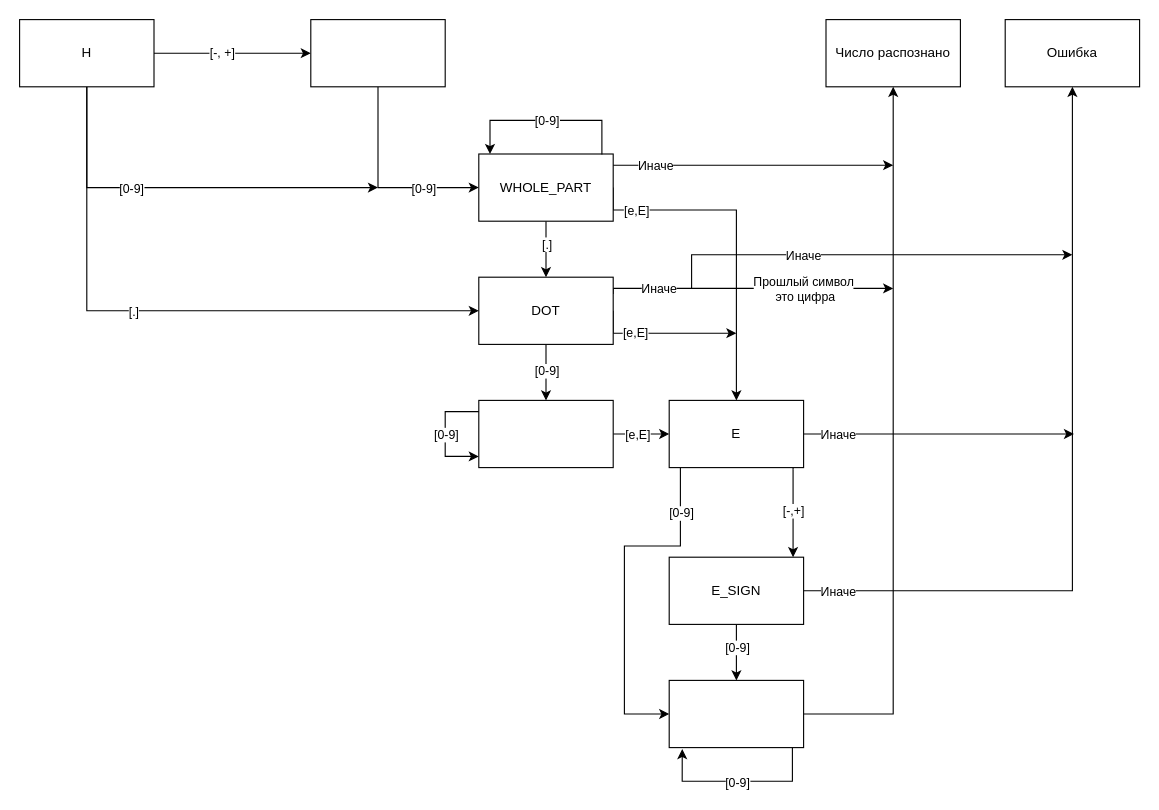
The diagram is 1159 pixels wide and 810 high, and some of its shapes have lost their labels. Each missing label, with the centre of its shape:
"E_PART" goes at (736,713).
"FRAC_PART" goes at (545,433).
"SIGN" goes at (377,52).
